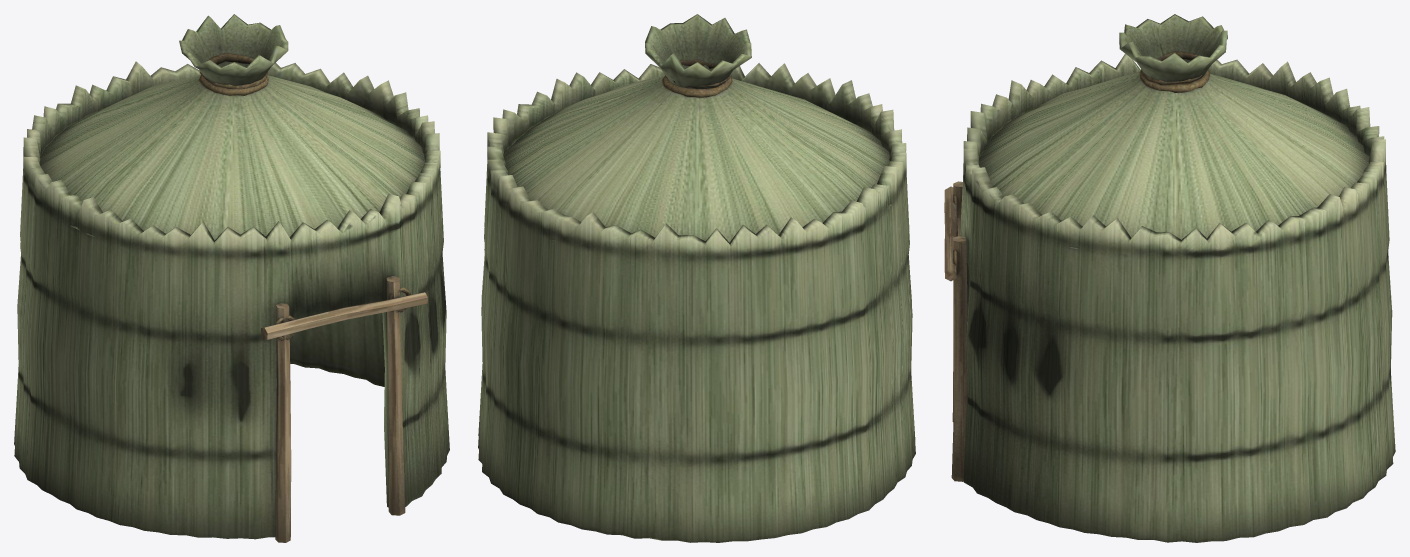
The model's file is healer_hut_reeds.gltf.
3 views of the same model, side by side, from view 1: azimuth 30°, elevation 25°; view 2: azimuth 150°, elevation 25°; view 3: azimuth 270°, elevation 25° (orthographic).
Parts seen in each view (by area): view 1: healer_hut_reeds; view 2: healer_hut_reeds; view 3: healer_hut_reeds.
Boxes of the visible parts, box(x1,y1,x2,y2) form: healer_hut_reeds: box(14, 14, 449, 542); healer_hut_reeds: box(478, 14, 915, 542); healer_hut_reeds: box(944, 14, 1395, 542).
Bounding box in the file's own units: 2.47 × 2.58 × 2.51.
3 materials, 3 textured.
